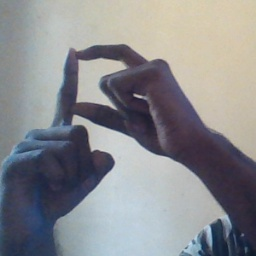D: (31, 33, 174, 169)
